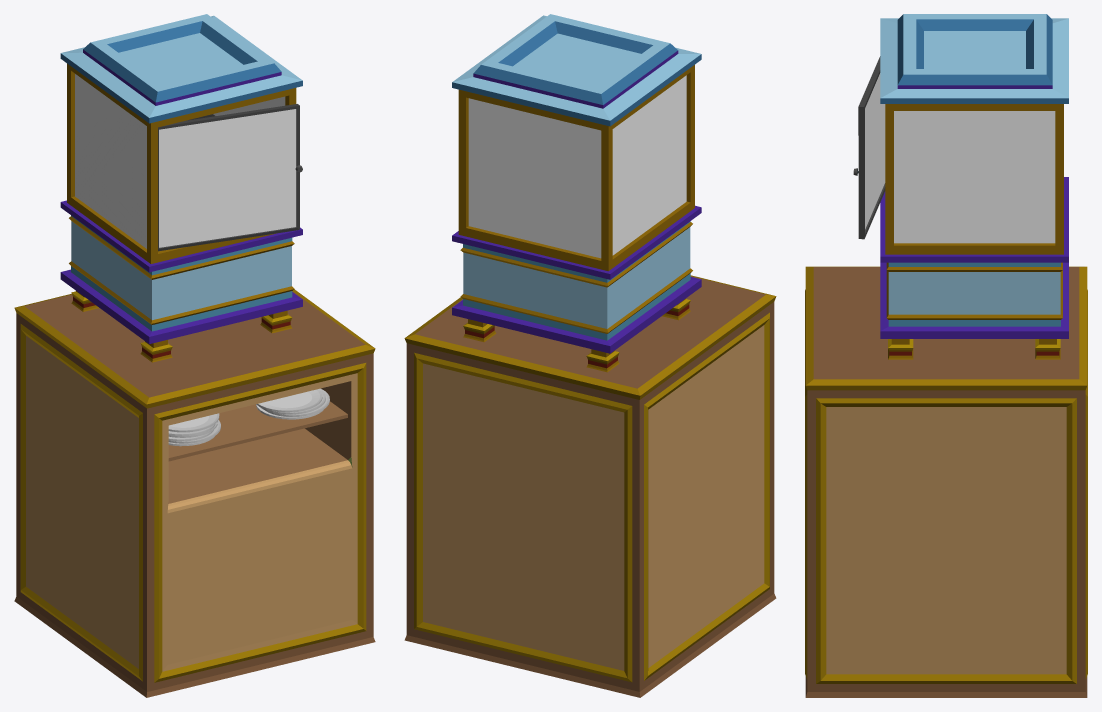
The model's file is Pastry Display.fbx.
3 renders of one model, left to right at view 1: azimuth 30°, elevation 25°; view 2: azimuth 150°, elevation 25°; view 3: azimuth 270°, elevation 25°, orthographic. The views are drawn at different scales.
Parts seen in each view (by area): view 1: Pastry Display; view 2: Pastry Display; view 3: Pastry Display.
Part boxes in pixels (x1,y1,x2,y2): Pastry Display: (14,14,375,697); Pastry Display: (404,14,776,697); Pastry Display: (805,14,1087,697).
Size of the model in its own units: 76.29 by 177 by 76.29.
Materials: 2 (1 with a texture image).
